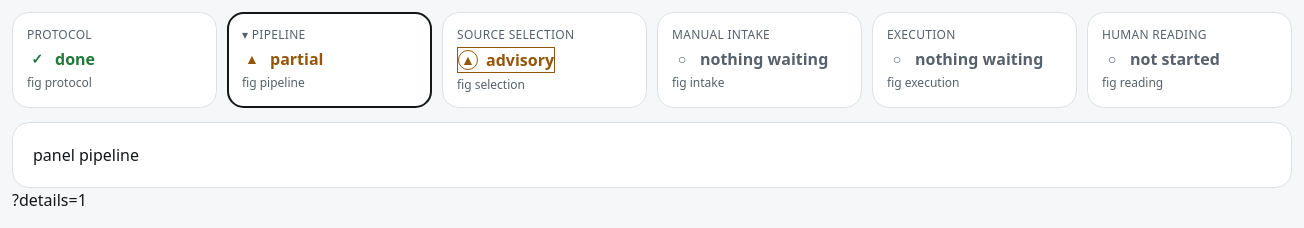
Scenario: BlockMap › clicking a tile switches the panel and writes the URL, keeping other parameters
Click the tab "Manual intake ○ nothing waiting fig intake".
click(760, 60)  # box [657,12,862,108]
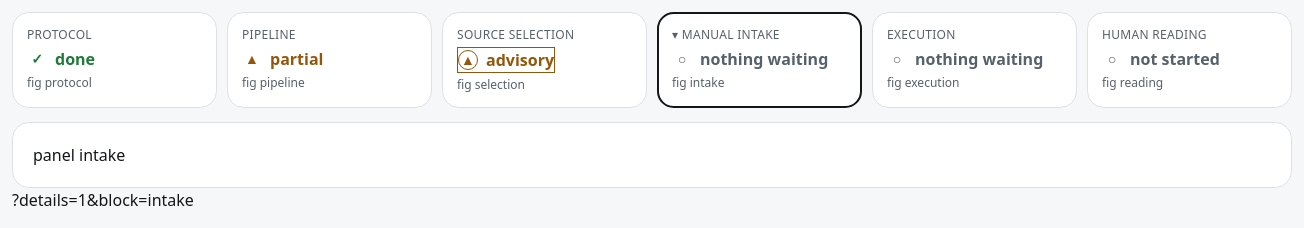
Result: the panel reads "panel intake" at [12,122,1292,188]
Result: the text with test id "loc" reads "?details=1&block=intake" at [12,189,194,211]
